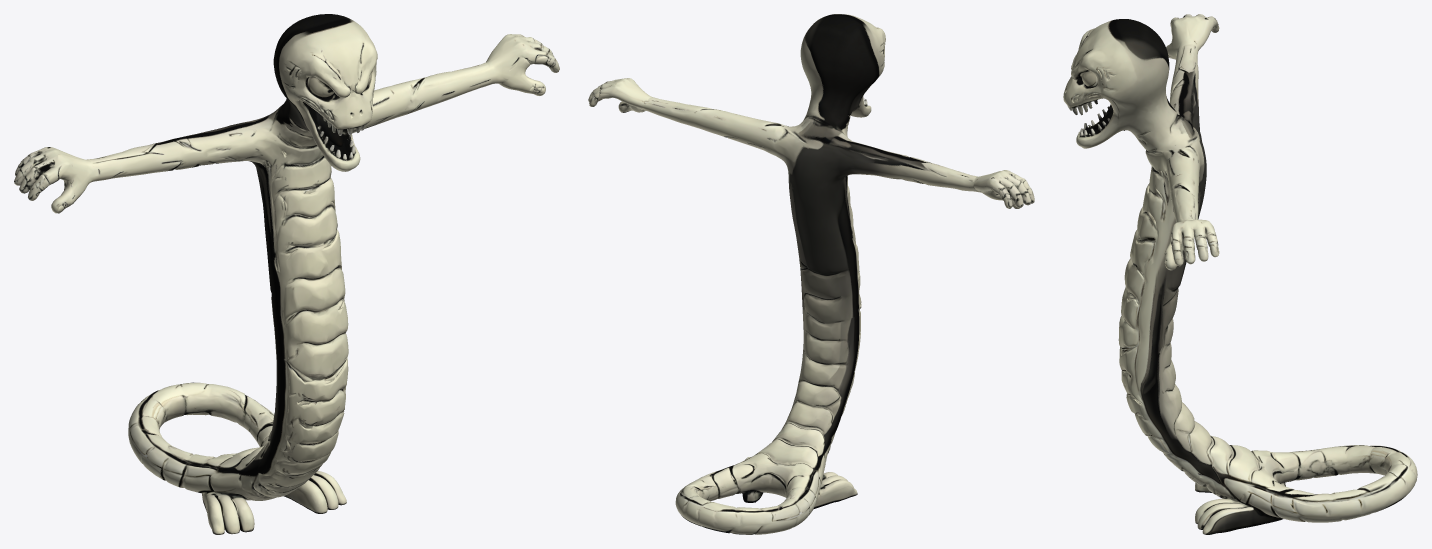
Rendered from sewer_wyrm.glb.
3 renders of one model, left to right at view 1: azimuth 30°, elevation 25°; view 2: azimuth 150°, elevation 25°; view 3: azimuth 270°, elevation 25°, orthographic. The views are drawn at different scales.
Visible parts, largest first — view 1: tripo_node_4071c66c-d263-489f-a8f4-5263cdffcd8b; view 2: tripo_node_4071c66c-d263-489f-a8f4-5263cdffcd8b; view 3: tripo_node_4071c66c-d263-489f-a8f4-5263cdffcd8b.
Part boxes in pixels (x1,y1,x2,y2): tripo_node_4071c66c-d263-489f-a8f4-5263cdffcd8b: [14, 14, 559, 534]; tripo_node_4071c66c-d263-489f-a8f4-5263cdffcd8b: [588, 14, 1034, 534]; tripo_node_4071c66c-d263-489f-a8f4-5263cdffcd8b: [1063, 14, 1417, 534].
Bounding box in the file's own units: 0.9798 × 0.9359 × 0.623.
Materials: 1 (1 with a texture image).
